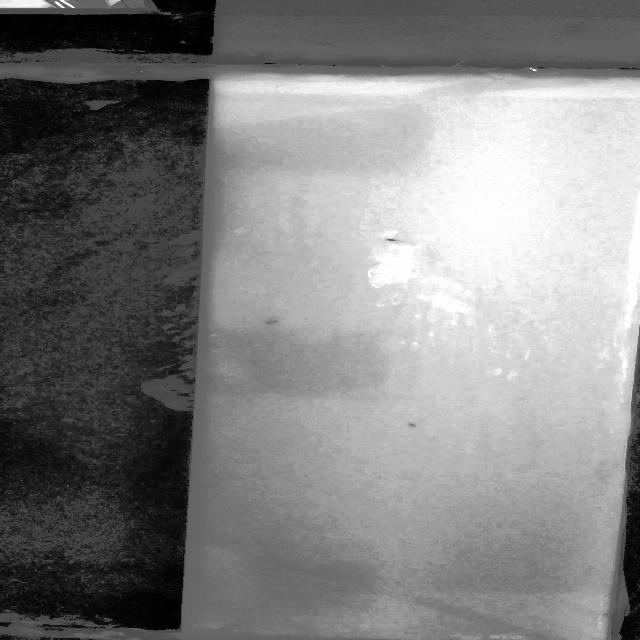shrimp: (256, 312, 307, 331), (377, 235, 420, 248), (398, 418, 432, 432)
